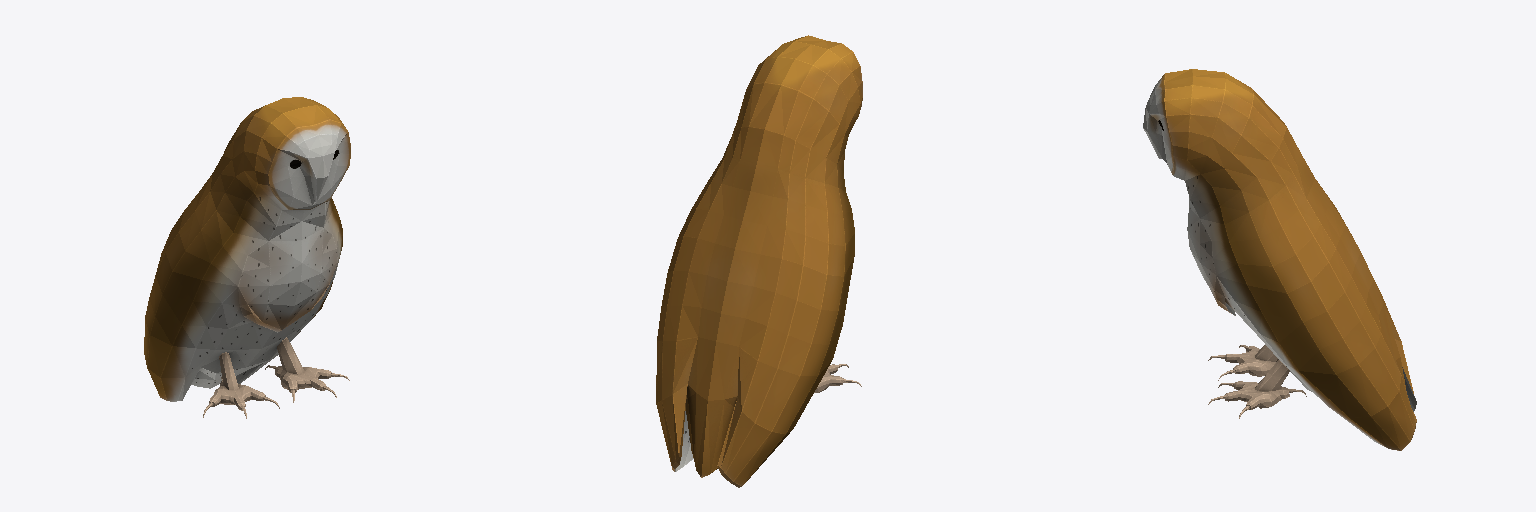
3 renders of one model, left to right at view 1: azimuth 30°, elevation 25°; view 2: azimuth 150°, elevation 25°; view 3: azimuth 270°, elevation 25°, orthographic.
Parts seen in each view (by area): view 1: BarnOwl_mesh; view 2: BarnOwl_mesh; view 3: BarnOwl_mesh.
Boxes of the visible parts, <box> form: BarnOwl_mesh: <box>144,97,350,418</box>; BarnOwl_mesh: <box>656,35,862,487</box>; BarnOwl_mesh: <box>1143,69,1416,450</box>.
Bounding box in the file's own units: 4.98 × 10.4 × 7.2.
1 materials, 1 textured.